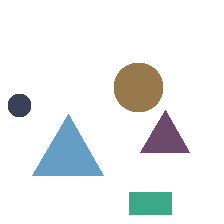circle: (114, 63, 162, 111), (8, 94, 30, 116)
rectangle: (129, 192, 171, 214)
triangle: (32, 114, 103, 175), (140, 110, 189, 152)
